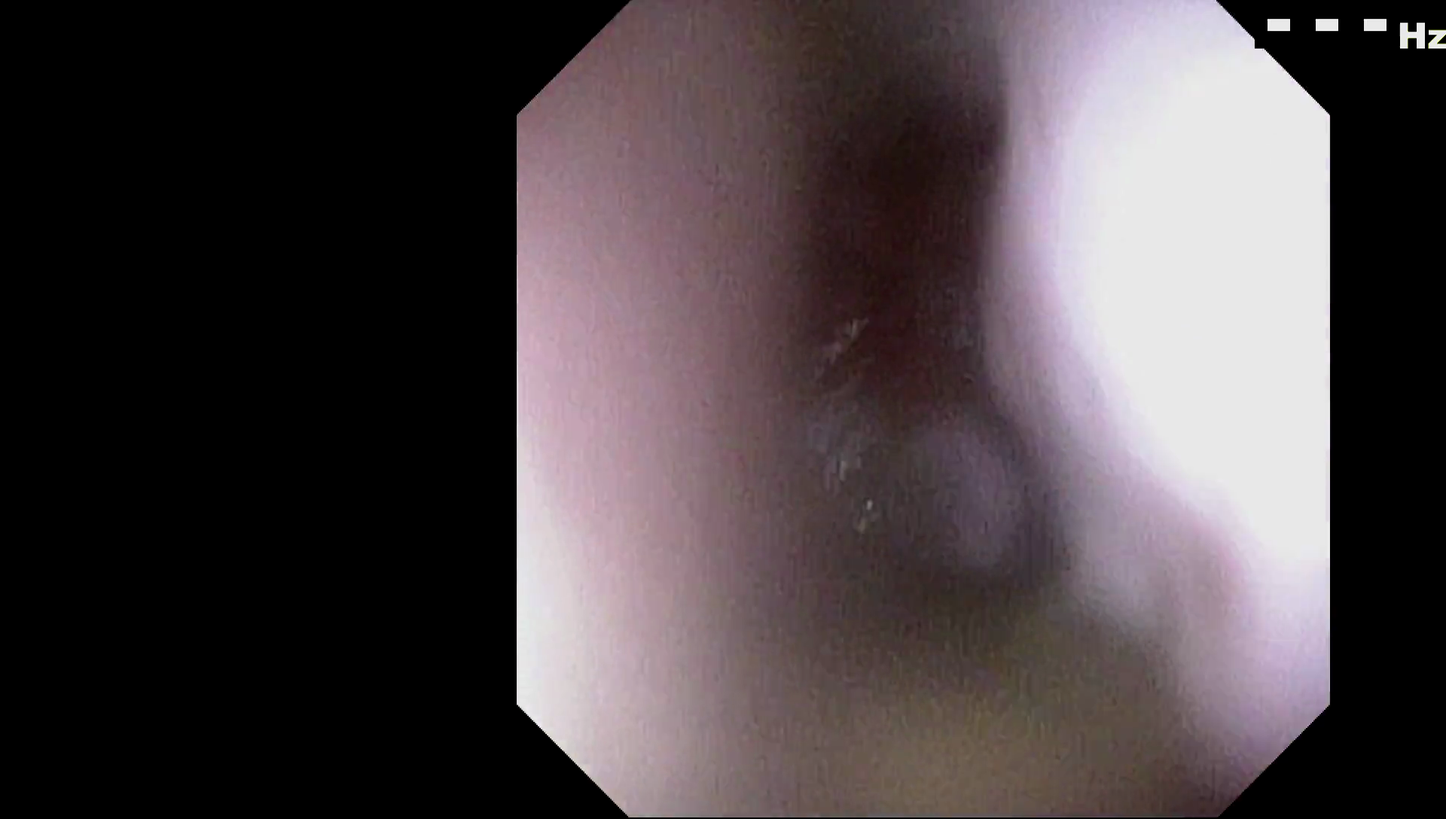close_wall: (982, 10, 1323, 702), (518, 124, 801, 696)
next: (760, 57, 1040, 410)
